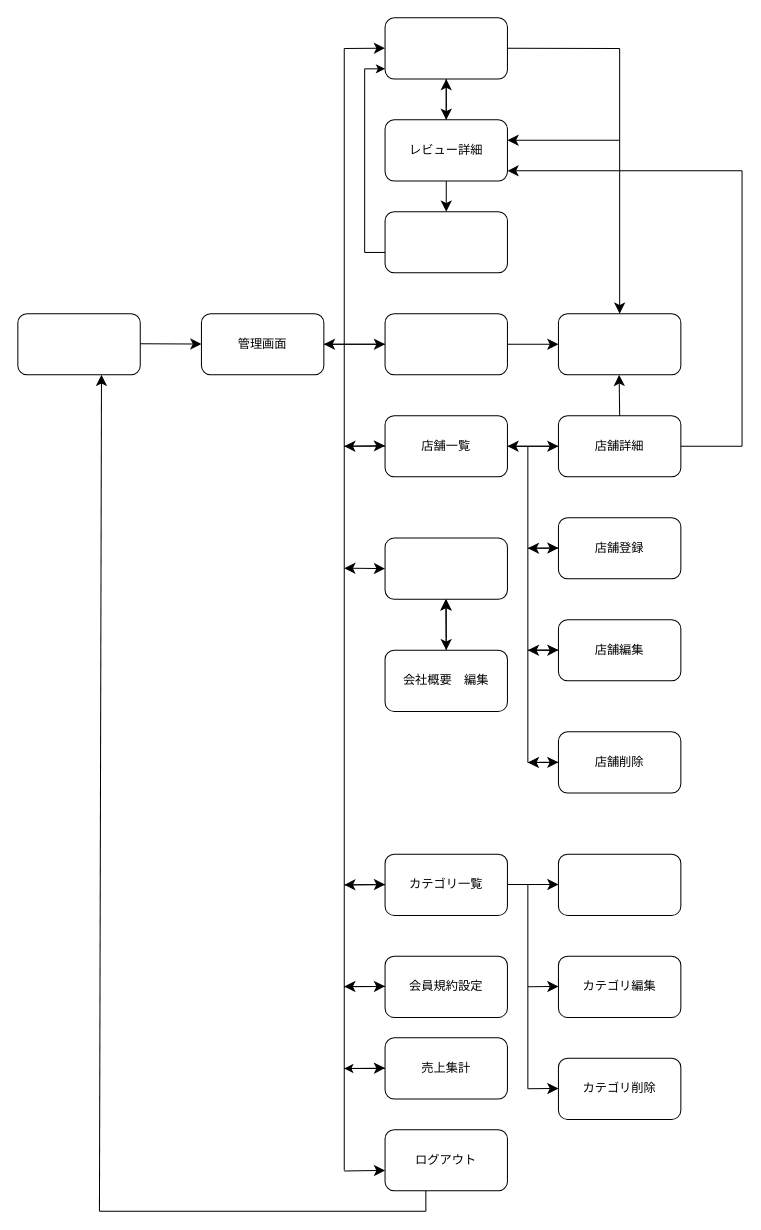
The diagram is 761 pixels wide and 1230 high, and some of its shapes have lost their labels. The shapes that lost their labels are listed below. From the top down, each one's centre as x and y in pixels, then its label:
(445,48): レビュー一覧
(445,242): レビュー削除
(78,344): ログイン
(445,344): 会員一覧
(619,344): 会員詳細
(445,568): 会社概要
(619,884): カテゴリ登録
